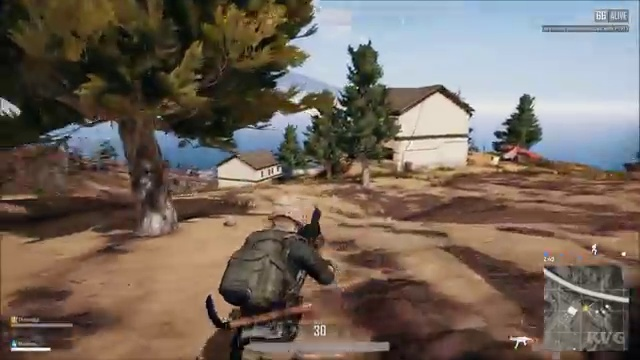Player: (225, 191, 342, 311)
